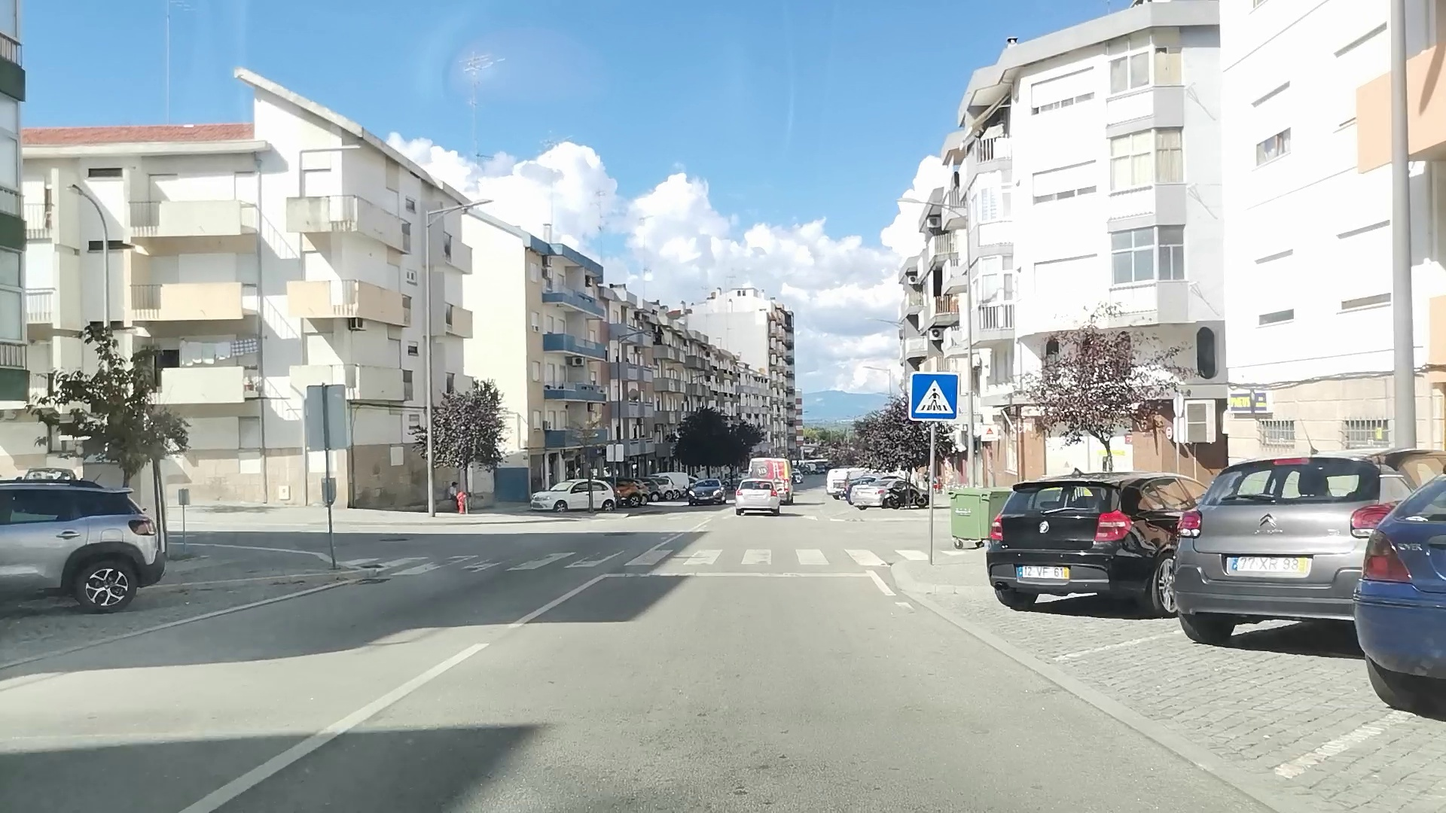Stairs: (341, 549, 963, 575)
